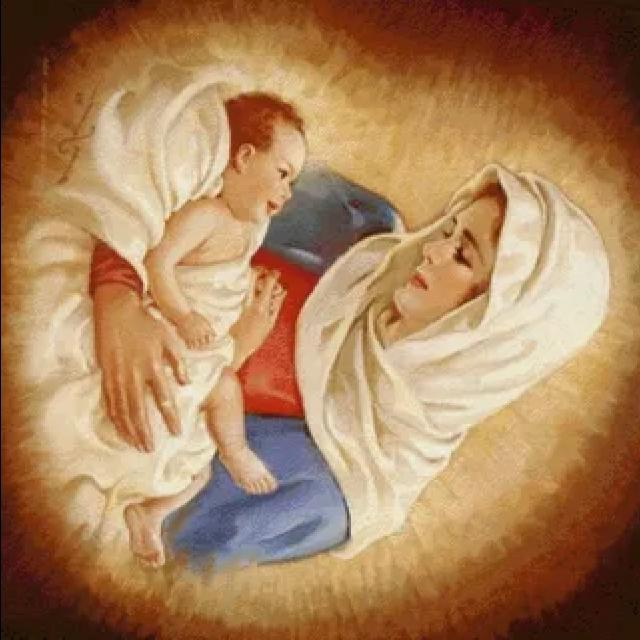mother of god: (71, 81, 616, 584)
